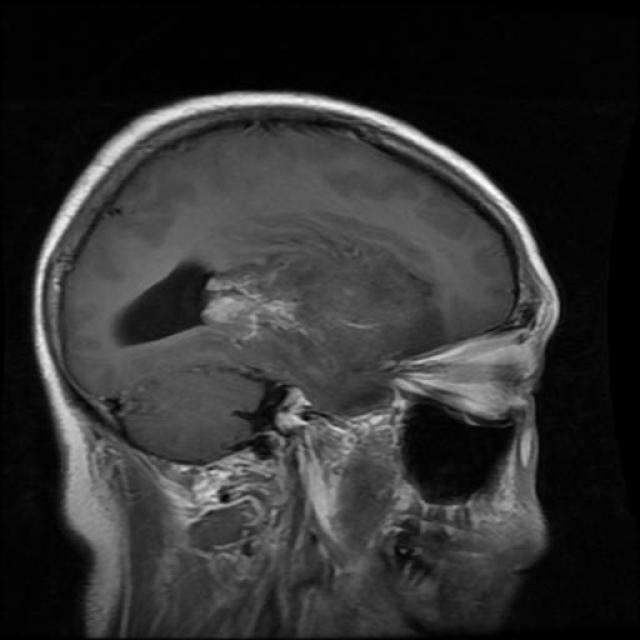glioma: (116, 245, 308, 361)
